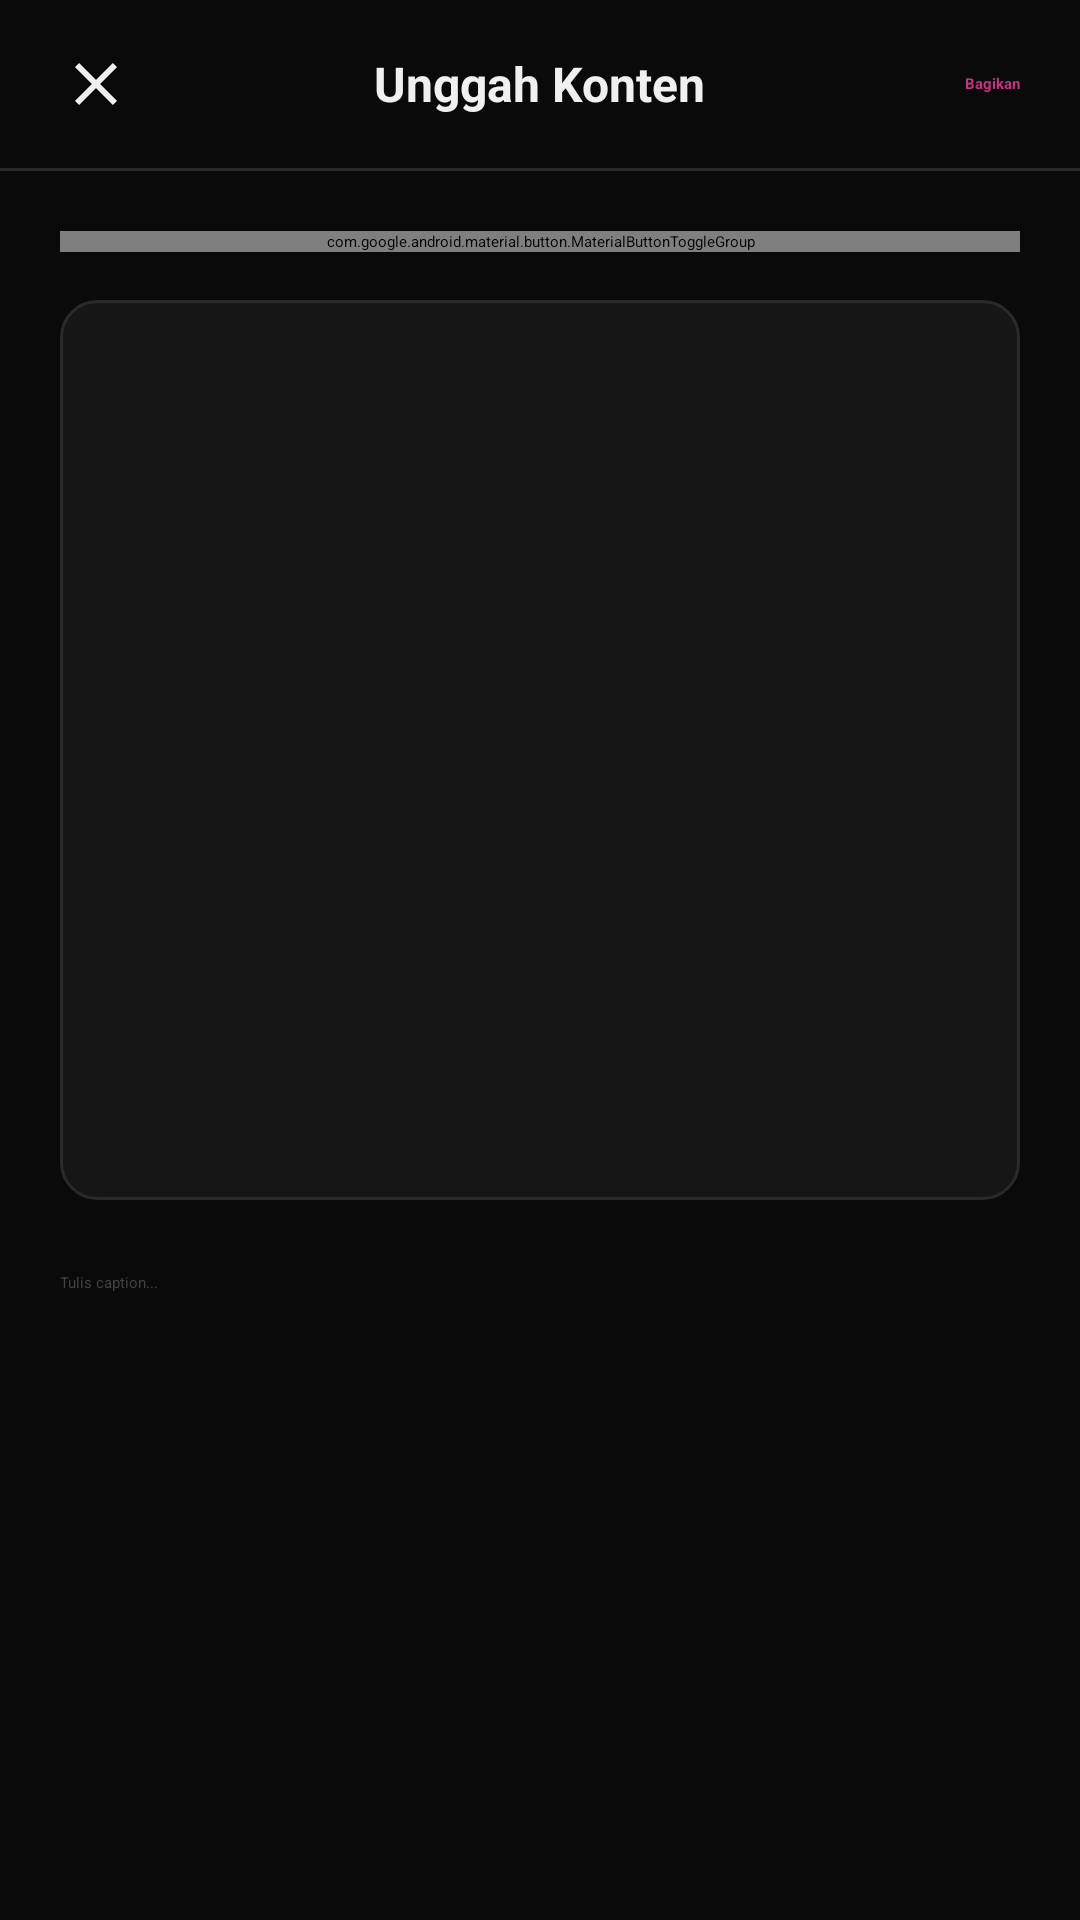

Icon click points for this 1080*1920 phone screenshot, format (x=x, y=y):
close: (x=96, y=84)
